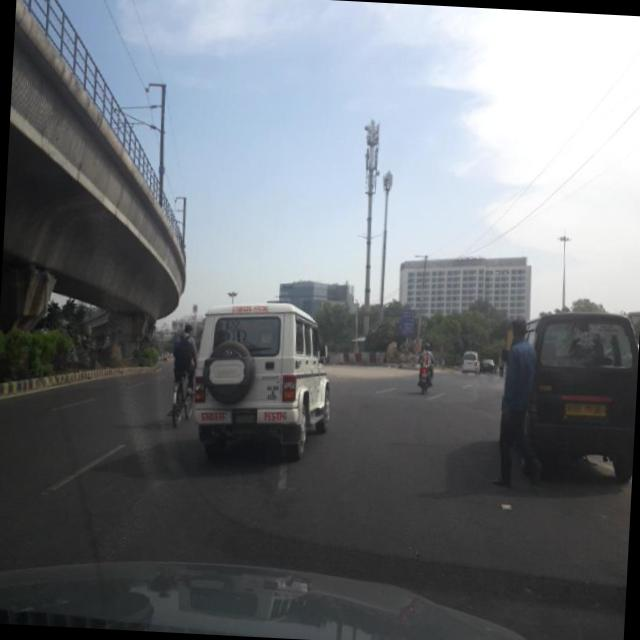crack: (72, 456, 344, 568)
